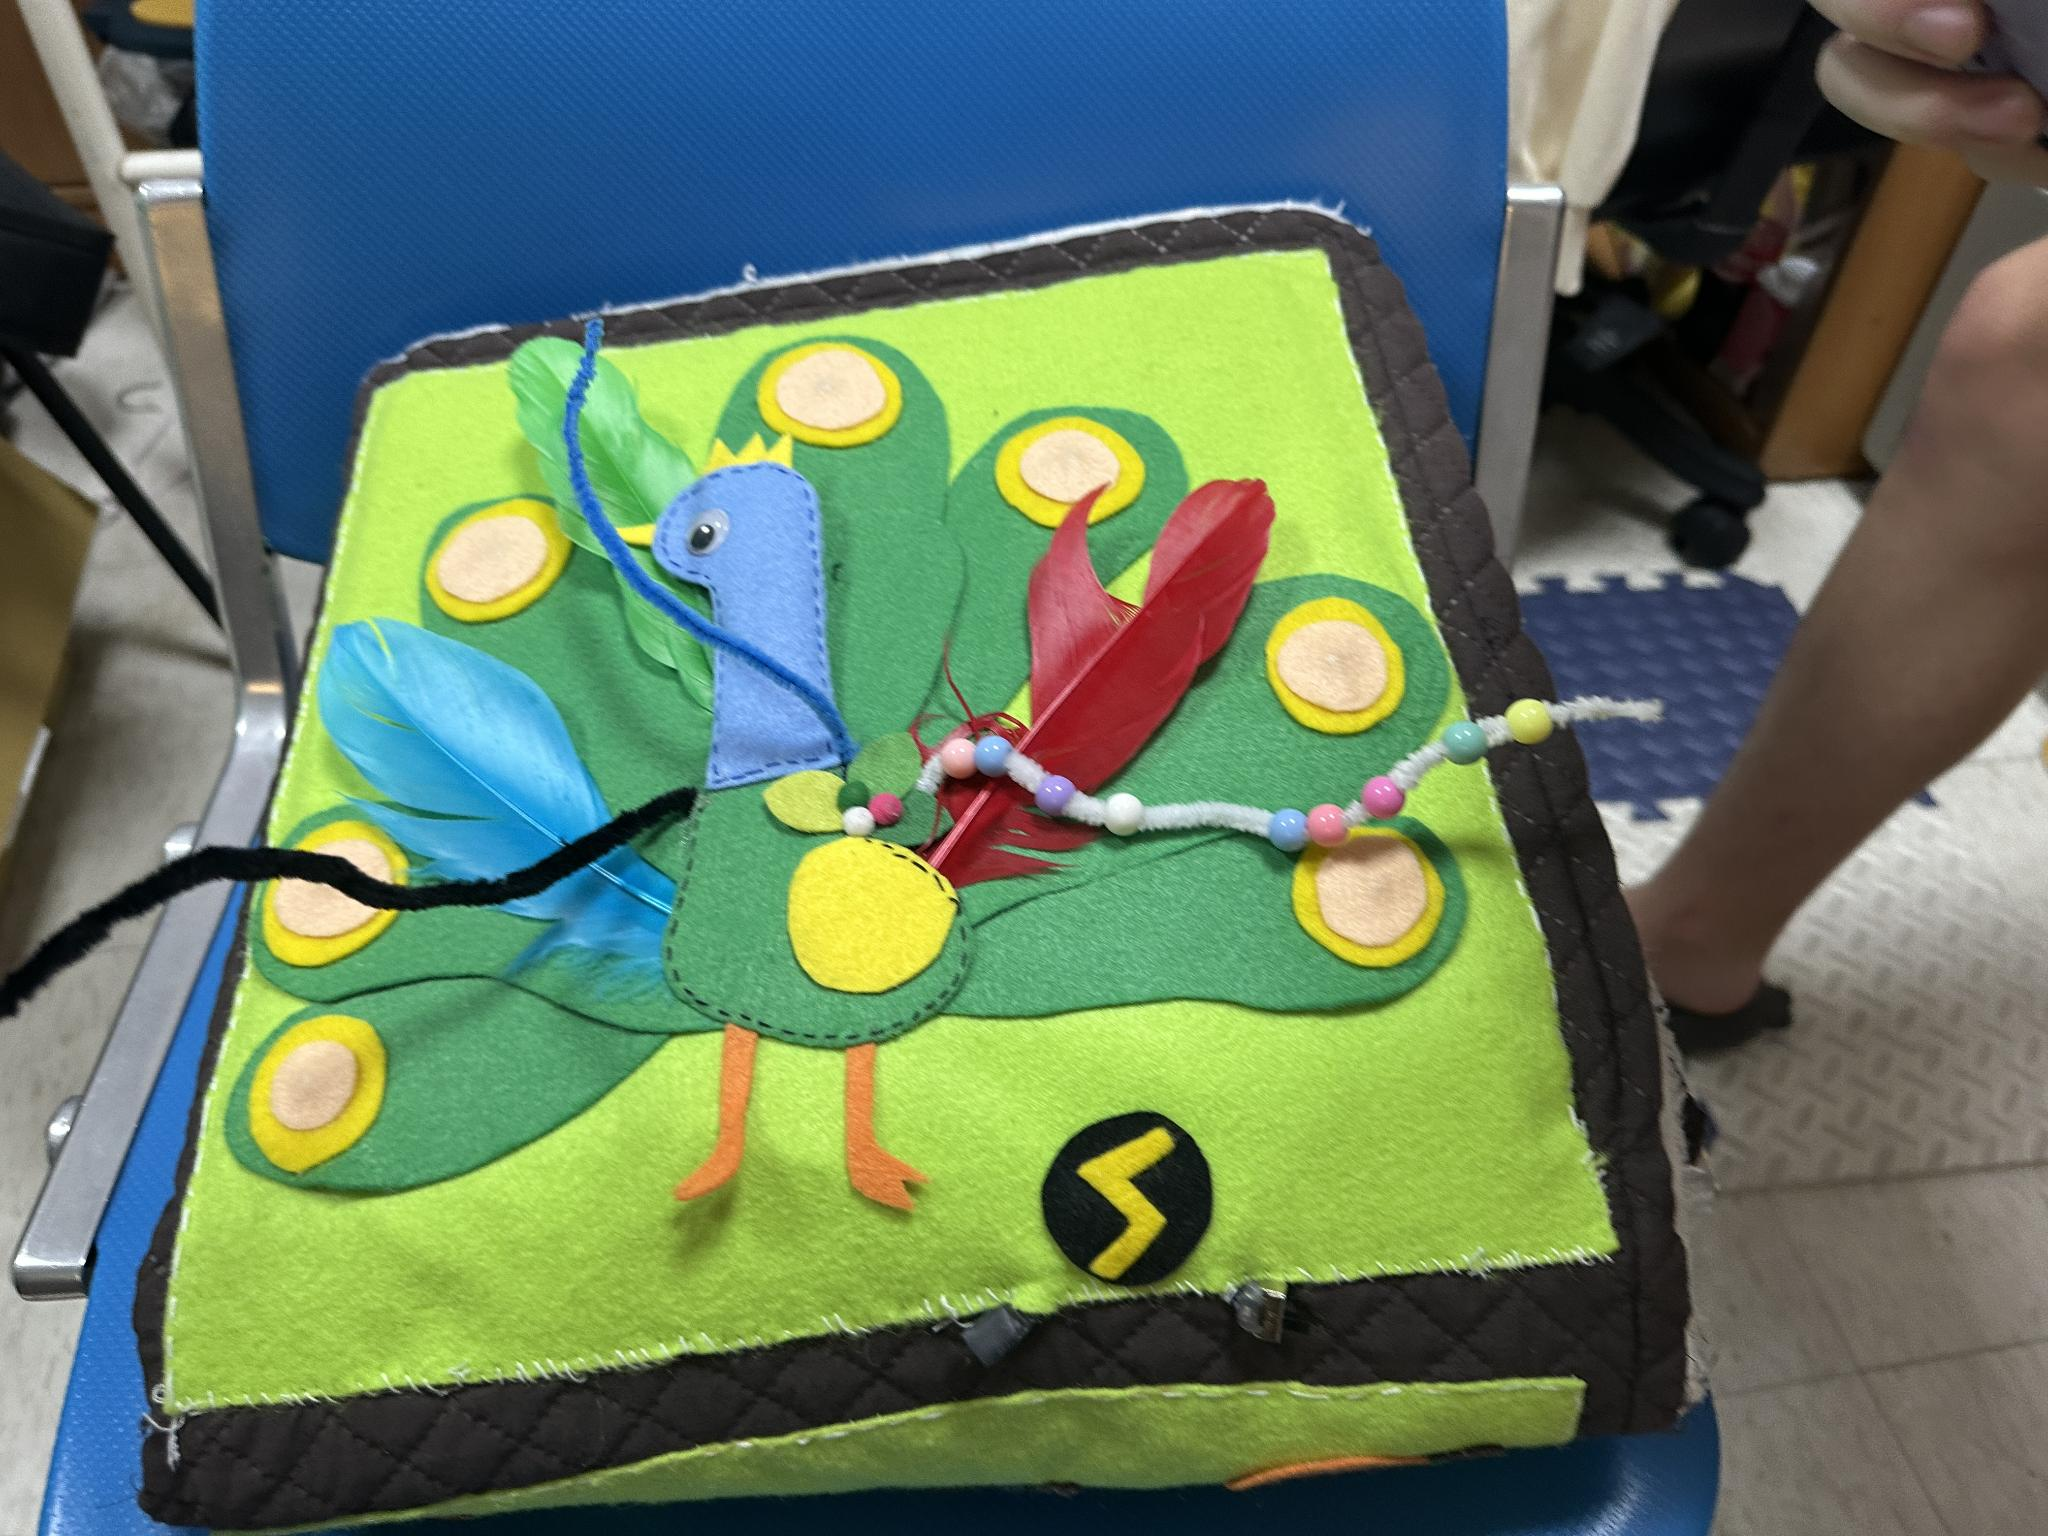bead: (1351, 749, 1421, 824), (1493, 694, 1564, 750), (1100, 781, 1156, 849), (1438, 710, 1496, 774), (976, 705, 1014, 786), (1037, 763, 1082, 821), (1264, 794, 1305, 852), (939, 728, 976, 789), (1311, 794, 1347, 852)
